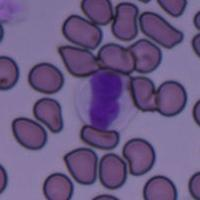M: (78, 69, 137, 131)
